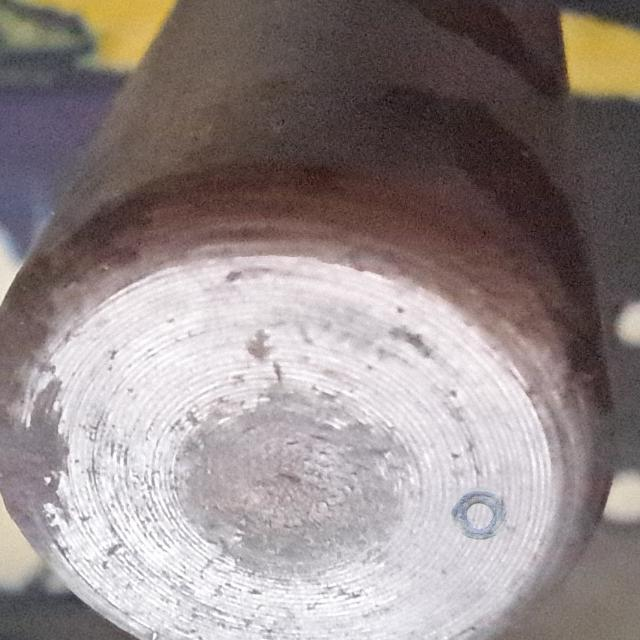defect: (444, 481, 517, 546)
planson: (0, 0, 616, 640)
